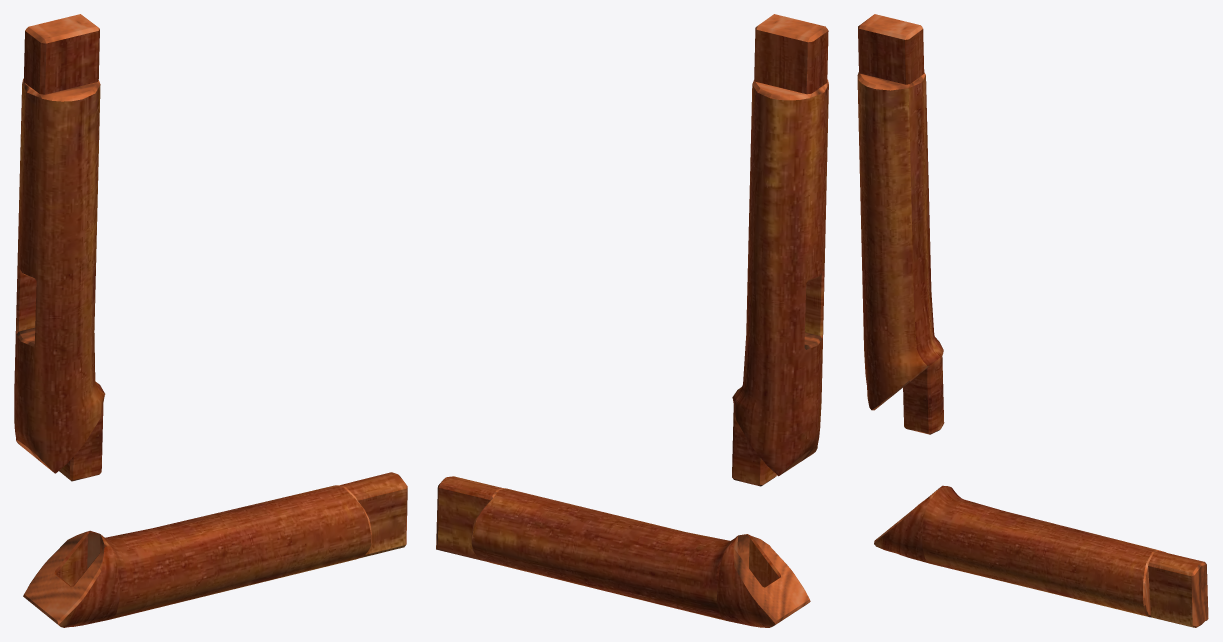
The model's file is ytsy_J_shugan_019.FBX.
The picture shows the model from 3 angles, left to right: view 1: azimuth 30°, elevation 25°; view 2: azimuth 150°, elevation 25°; view 3: azimuth 330°, elevation 25°; orthographic projection. The views are drawn at different scales.
Visible parts, largest first — view 1: ytsy_J_shugan_019, ytsy_J_henggan_019; view 2: ytsy_J_shugan_019, ytsy_J_henggan_019; view 3: ytsy_J_shugan_019, ytsy_J_henggan_019.
Boxes of the visible parts, left/top/right/bottom form: ytsy_J_shugan_019: left=14, top=14, right=105, bottom=481; ytsy_J_henggan_019: left=23, top=472, right=407, bottom=627; ytsy_J_shugan_019: left=732, top=14, right=828, bottom=486; ytsy_J_henggan_019: left=436, top=476, right=810, bottom=627; ytsy_J_shugan_019: left=857, top=14, right=944, bottom=434; ytsy_J_henggan_019: left=874, top=485, right=1208, bottom=627.
Size of the model in its own units: 10.79 by 16.52 by 2.44.
